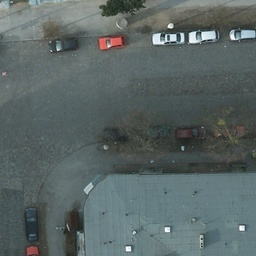car: (135, 122, 170, 142), (188, 25, 220, 46), (101, 124, 131, 145), (48, 35, 82, 53), (151, 28, 184, 45), (209, 123, 246, 138), (24, 206, 40, 239), (176, 123, 205, 140), (99, 34, 125, 51)
